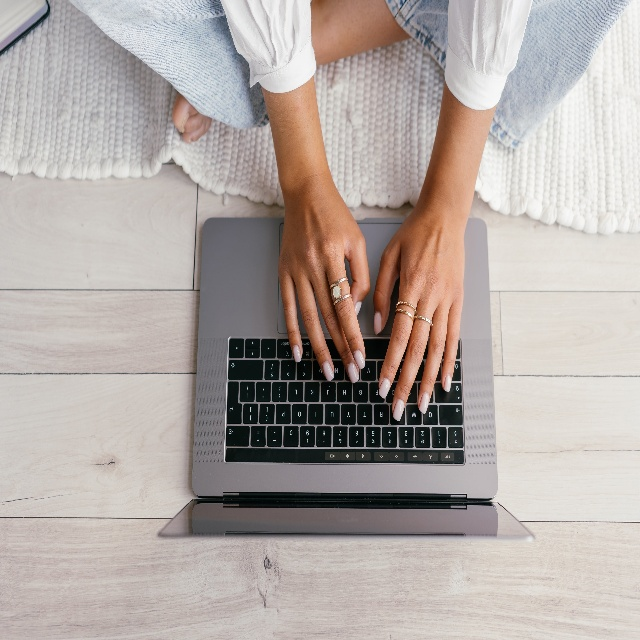Sin_guantes: (375, 205, 466, 424), (277, 177, 370, 384)
